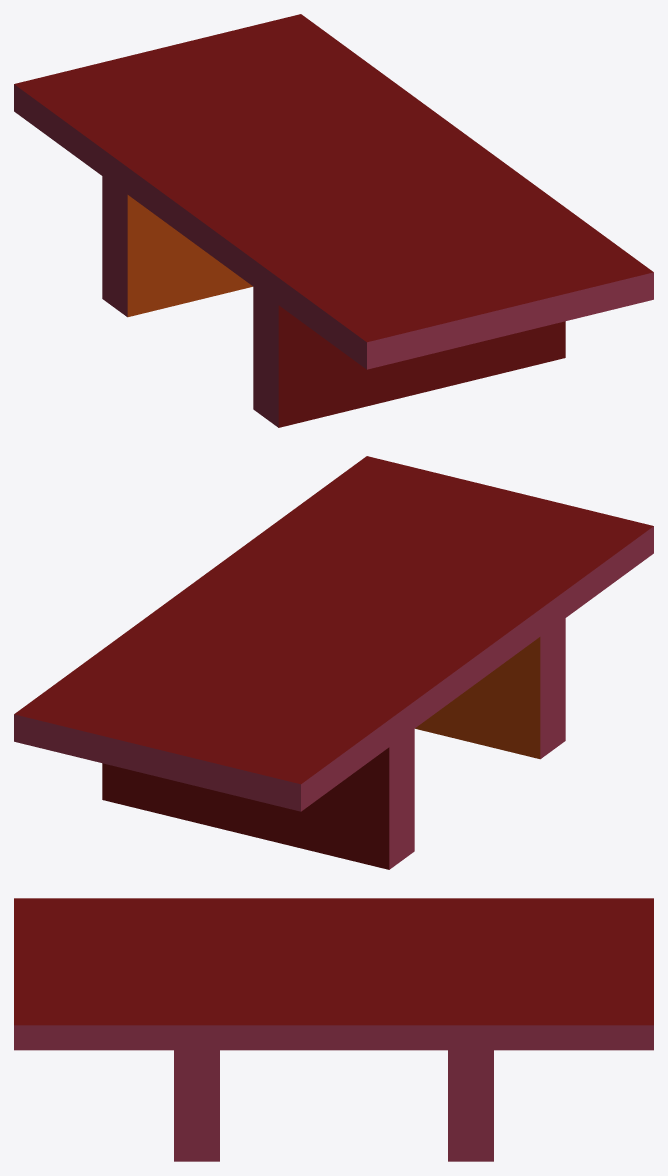
Rendered from table.glb.
3 renders of one model, top to bottom at view 1: azimuth 30°, elevation 25°; view 2: azimuth 150°, elevation 25°; view 3: azimuth 270°, elevation 25°, orthographic. The views are drawn at different scales.
Visible parts, largest first — view 1: table_0; view 2: table_0; view 3: table_0.
Boxes of the visible parts, x1,y1,x2,y2 form: table_0: (14,14,653,427); table_0: (14,456,653,869); table_0: (14,898,653,1161).
Bounding box in the file's own units: 0.5455 × 0.2727 × 1.16.
